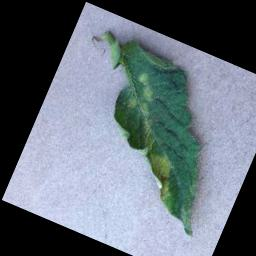Leaf_Mold: (131, 144, 185, 204)
